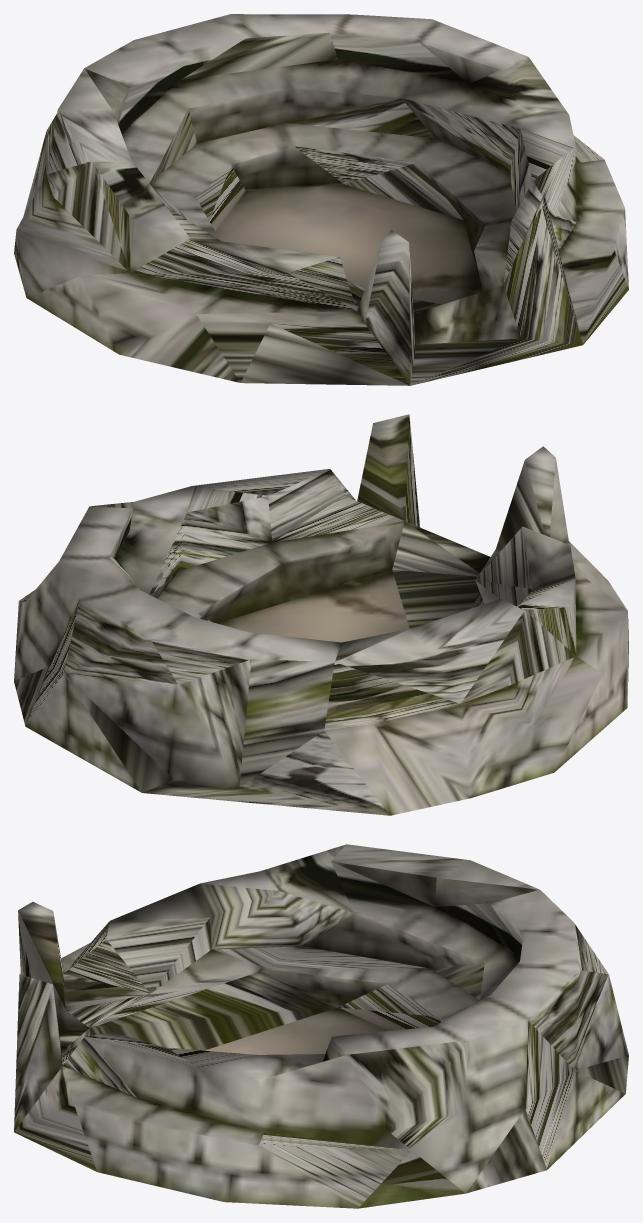
File: Ancient_Stone_Amphith.glb
3 views of the same model, one above another, from view 1: azimuth 30°, elevation 25°; view 2: azimuth 150°, elevation 25°; view 3: azimuth 270°, elevation 25° (orthographic). The views are drawn at different scales.
Visible parts, largest first — view 1: Ancient_Stone_Amphith; view 2: Ancient_Stone_Amphith; view 3: Ancient_Stone_Amphith.
Boxes of the visible parts, <box> form: Ancient_Stone_Amphith: <box>14,14,628,385</box>; Ancient_Stone_Amphith: <box>14,414,628,815</box>; Ancient_Stone_Amphith: <box>14,844,628,1208</box>.
Size of the model in its own units: 1.73 by 0.4618 by 1.79.
Materials: 1 (1 with a texture image).
